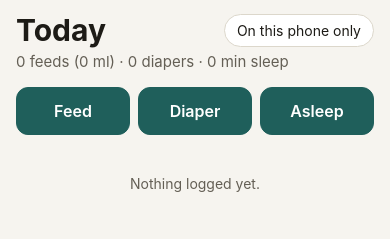
nap: asleep, awake, and the button follows
The width and height of the screenshot is (390, 239).
Click the button "Asleep": {"x": 317, "y": 111} top-left (260, 87), bottom-right (374, 135)
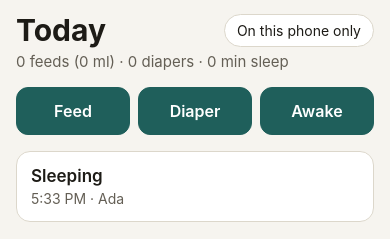
expect the text "Sleeping" is shown: met, box top-left (31, 166), bottom-right (103, 186)
Click the button "Awake": {"x": 317, "y": 111} top-left (260, 87), bottom-right (374, 135)
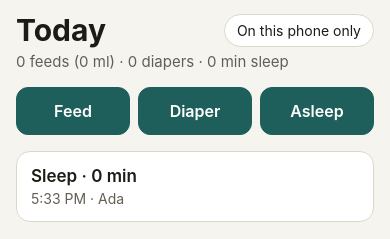
expect the text "On this phone only" is shown: met, box top-left (237, 22), bottom-right (361, 38)
expect the text "Sleep · 0 min" is shown: met, box top-left (31, 166), bottom-right (137, 186)
